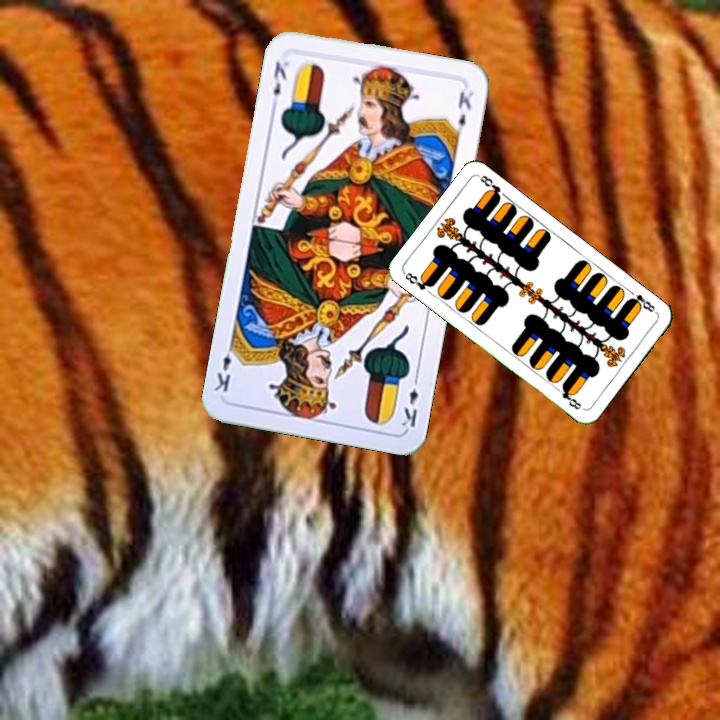E8: (624, 286, 657, 315), (400, 268, 436, 293)
EK: (397, 371, 422, 430), (267, 57, 291, 111)
